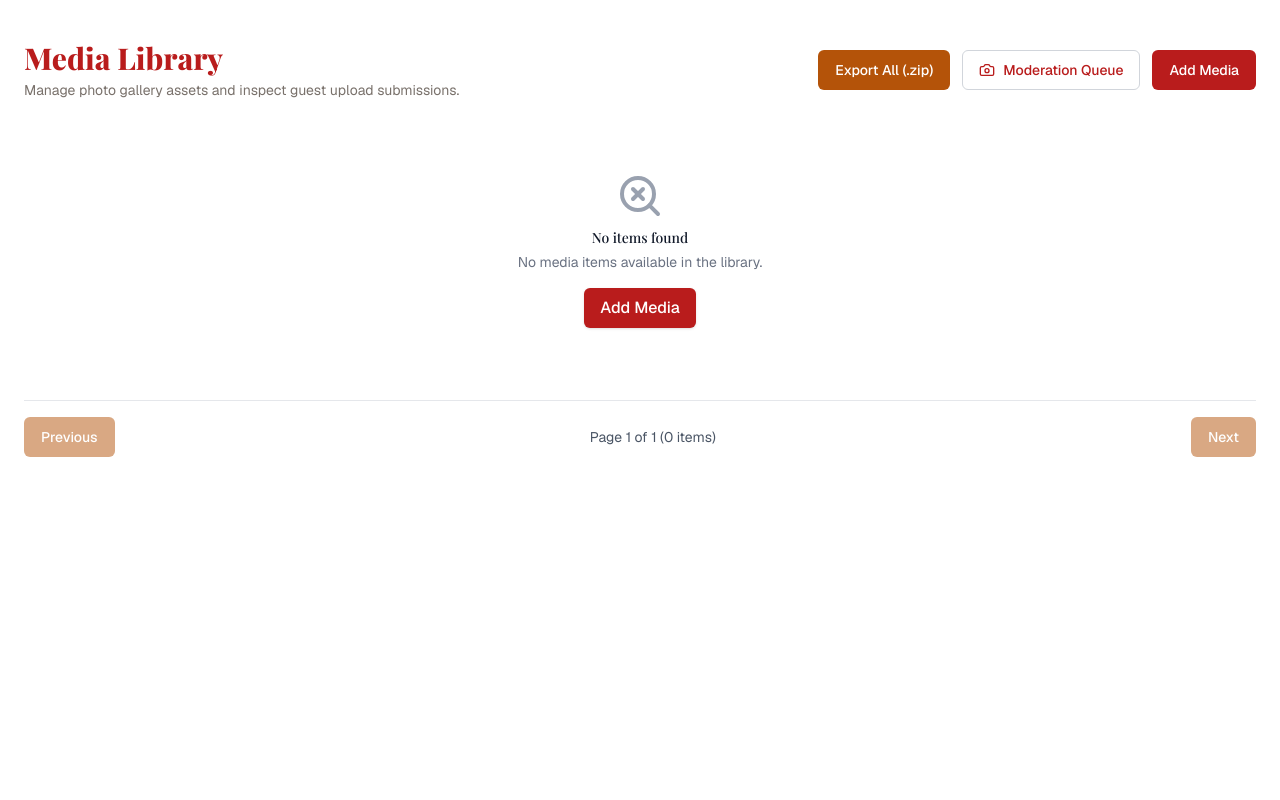
MediaDashboardPage › opens edit form when action button on EmptyState is clicked
expect the heading "No items found" is shown: met, box x1=592 y1=228 x2=688 y2=248
Click the button "Add Media" in the row of "Media Library". click: (1204, 70)
box: x1=1152 y1=50 x2=1256 y2=90
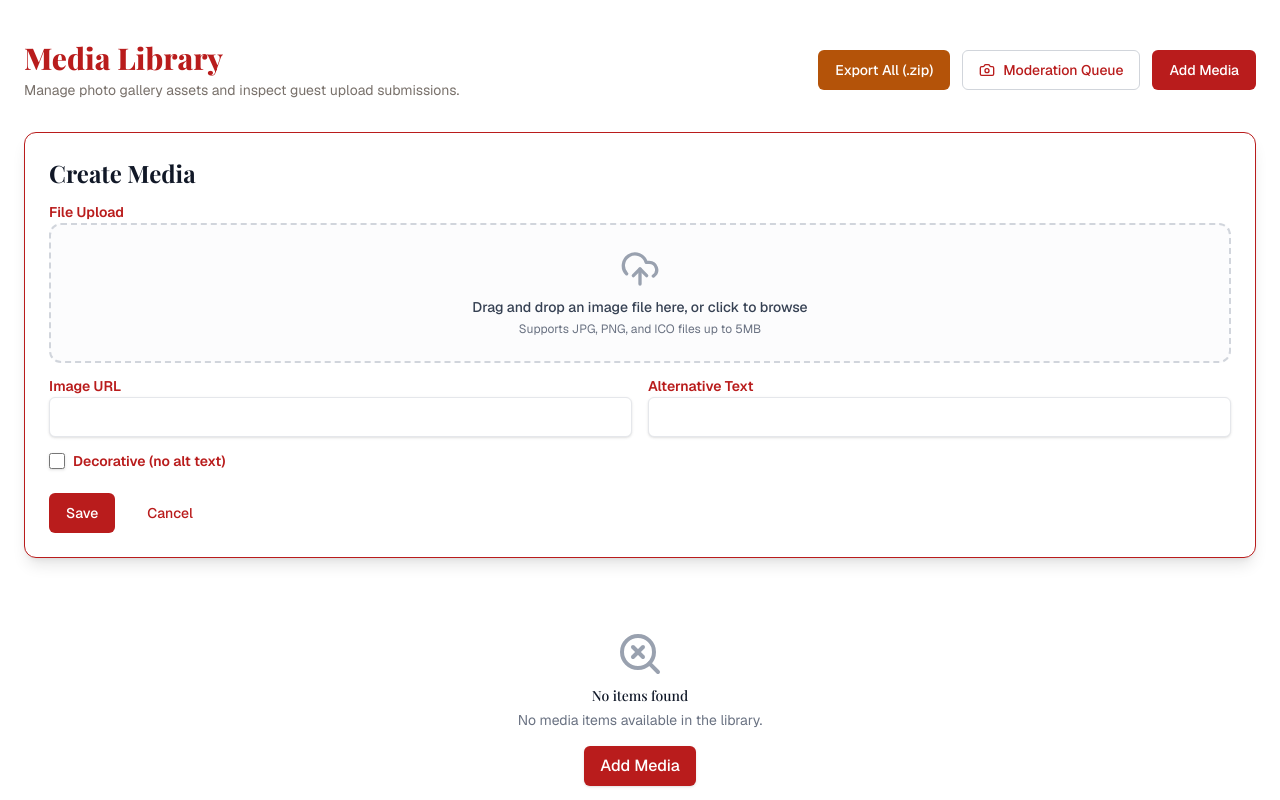
expect the heading "Create Media" is shown: met, box x1=49 y1=157 x2=196 y2=189
expect the button with aria-label "file upload dropzone" is shown: met, box x1=49 y1=223 x2=1231 y2=363
